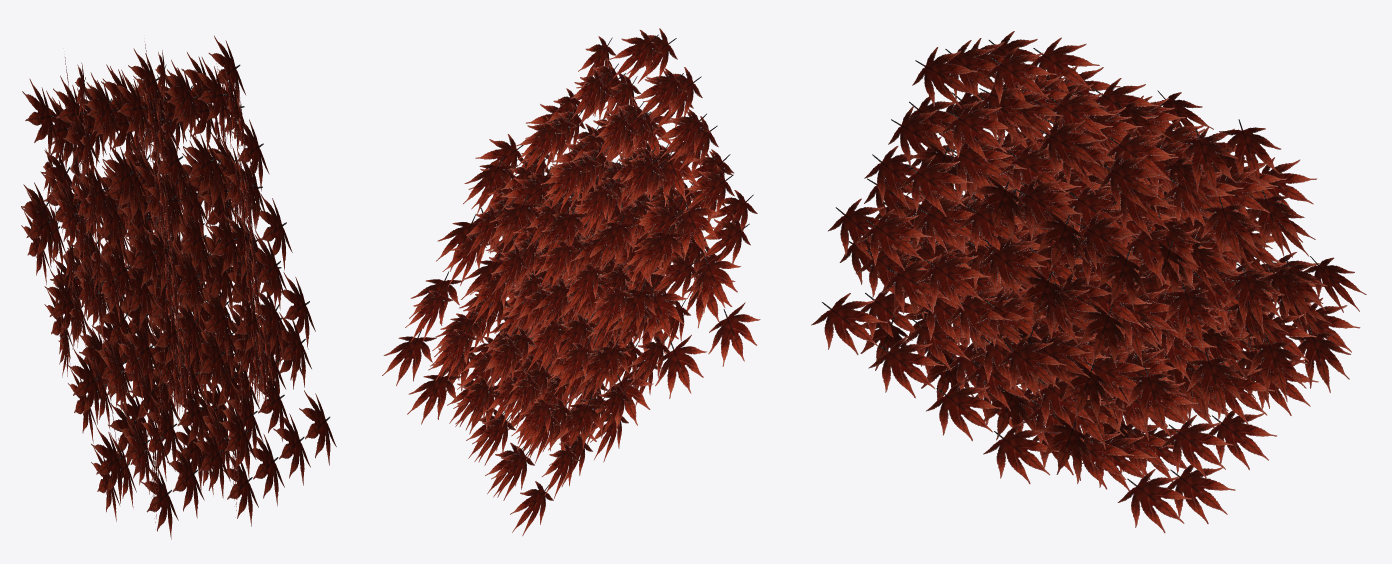
The model's file is model_canopy.fbx.
3 views of the same model, side by side, from view 1: azimuth 30°, elevation 25°; view 2: azimuth 150°, elevation 25°; view 3: azimuth 270°, elevation 25° (orthographic). The views are drawn at different scales.
Parts seen in each view (by area): view 1: pPlane15; view 2: pPlane15; view 3: pPlane15.
Part boxes in pixels (x1,y1,x2,y2): pPlane15: (21,35,336,539); pPlane15: (382,28,760,536); pPlane15: (811,31,1366,532).
Size of the model in its own units: 9.22 by 19.84 by 20.25.
Materials: 1 (1 with a texture image).
